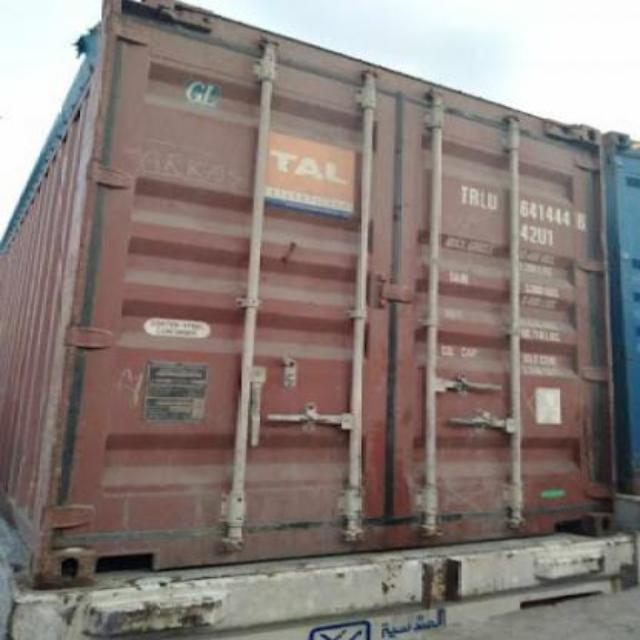1: (538, 200, 546, 222)
4: (562, 201, 574, 233), (528, 196, 538, 224), (544, 199, 552, 225), (554, 202, 562, 228)
6: (516, 193, 528, 219)
8: (574, 205, 590, 237)
L: (478, 182, 488, 212)
R: (470, 184, 480, 212)
T: (456, 179, 469, 205)
U: (488, 188, 500, 216)
